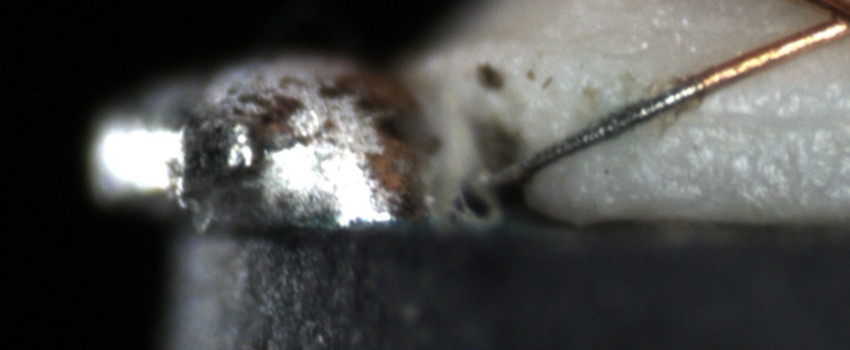CL: (805, 0, 850, 43)
DL: (676, 82, 850, 146)
TS: (487, 75, 702, 192)
TTCW: (480, 47, 769, 188)
